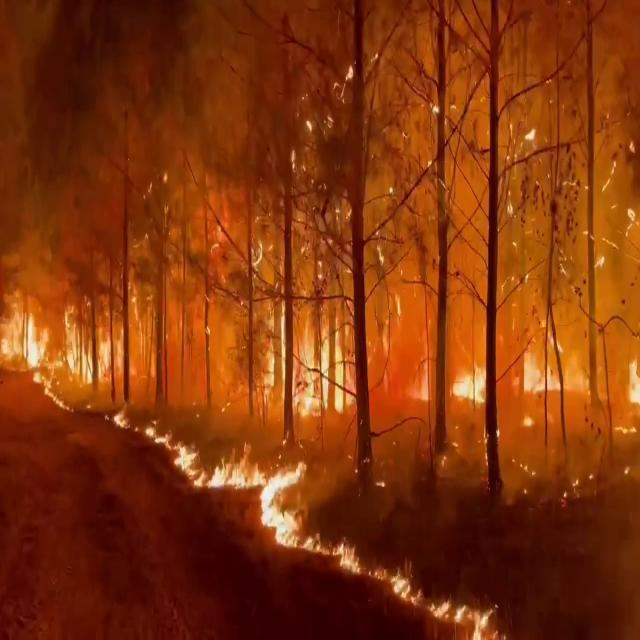Fire: (217, 440, 326, 556), (260, 314, 344, 430), (512, 316, 574, 436), (57, 302, 116, 384), (1, 292, 52, 381), (337, 544, 412, 604), (148, 426, 210, 494), (448, 346, 488, 414), (434, 596, 494, 640)
Smoke: (253, 0, 640, 418), (2, 0, 348, 332)
